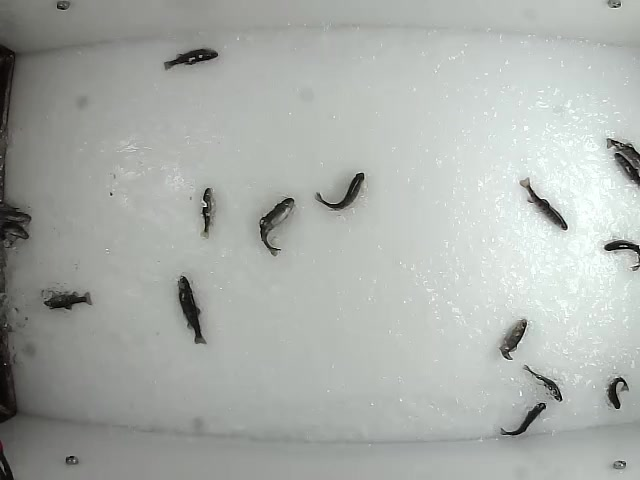fish: (517, 175, 569, 234), (173, 274, 207, 346), (257, 196, 295, 258), (312, 171, 364, 212), (499, 398, 548, 438), (519, 363, 563, 404), (163, 44, 219, 72), (602, 236, 640, 273), (497, 317, 527, 361), (195, 184, 217, 241), (42, 290, 93, 311), (605, 374, 630, 410)
